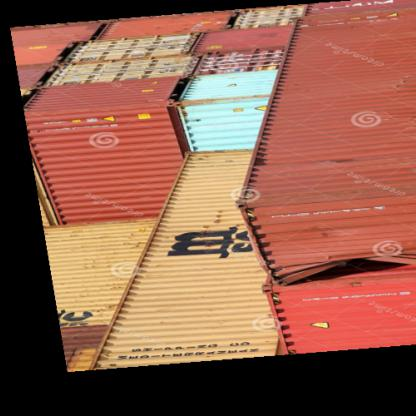Damage: (283, 256, 396, 304)
